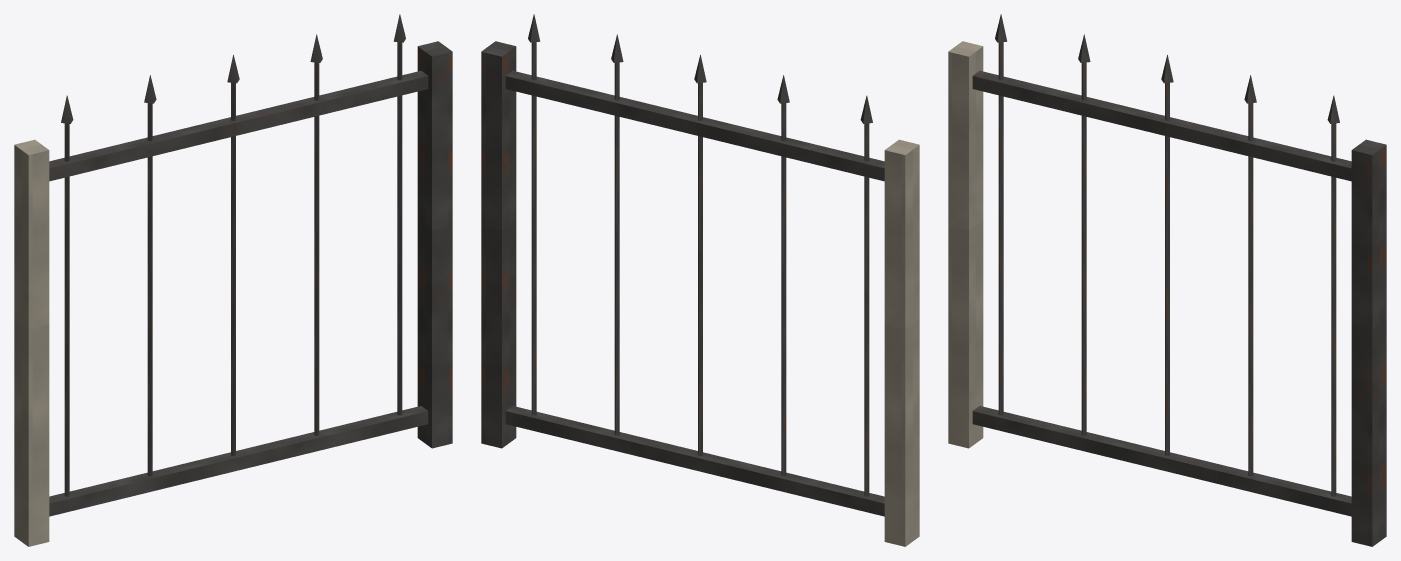
The model's file is Fence_Iron_Spear_1_LOD1.gltf.
3 renders of one model, left to right at view 1: azimuth 30°, elevation 25°; view 2: azimuth 150°, elevation 25°; view 3: azimuth 330°, elevation 25°, orthographic.
Visible parts, largest first — view 1: Fence_Iron_Spear_1_LOD1; view 2: Fence_Iron_Spear_1_LOD1; view 3: Fence_Iron_Spear_1_LOD1.
Part boxes in pixels (x1,y1,x2,y2): Fence_Iron_Spear_1_LOD1: [14, 14, 452, 546]; Fence_Iron_Spear_1_LOD1: [481, 14, 919, 546]; Fence_Iron_Spear_1_LOD1: [948, 14, 1386, 546].
Size of the model in its own units: 2.04 by 2 by 0.12.
Materials: 2 (2 with a texture image).
